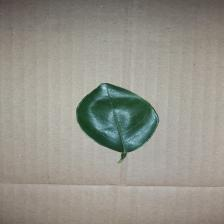healthy: (48, 78, 184, 160)
